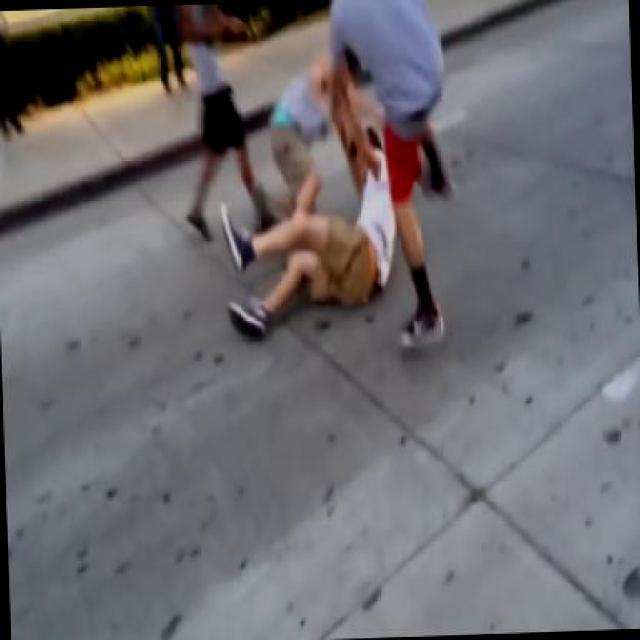fight: (256, 42, 402, 313)
